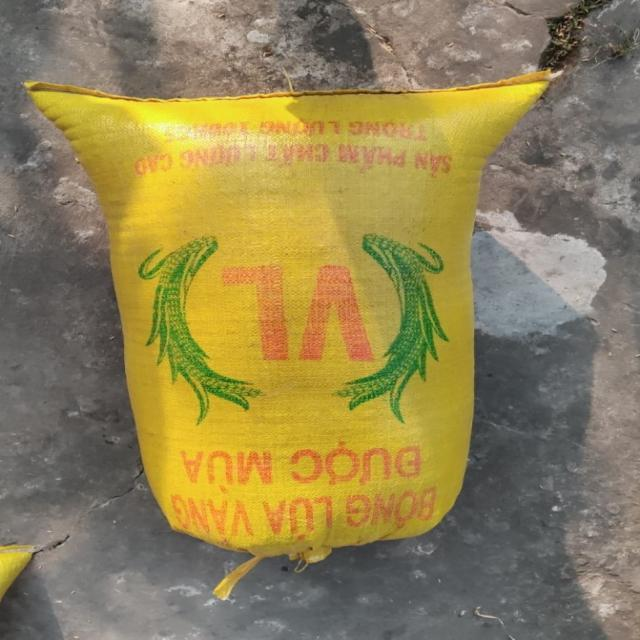gunny_bag: (26, 72, 551, 599)
